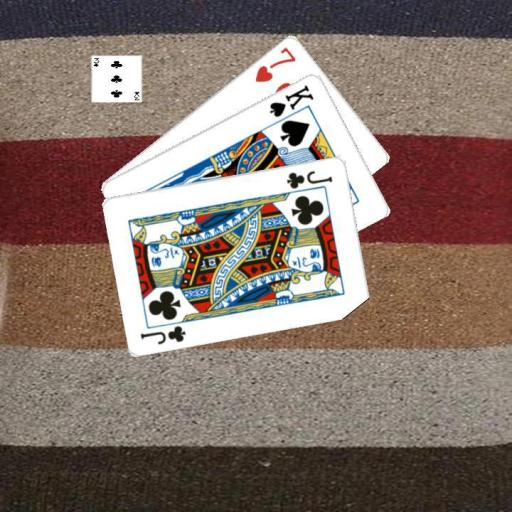7H: (252, 43, 298, 84)
JC: (137, 322, 188, 346), (284, 166, 334, 190)
KS: (266, 81, 315, 119)
